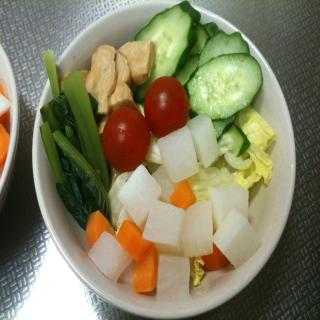tomato: (101, 106, 152, 174), (146, 75, 190, 137)
